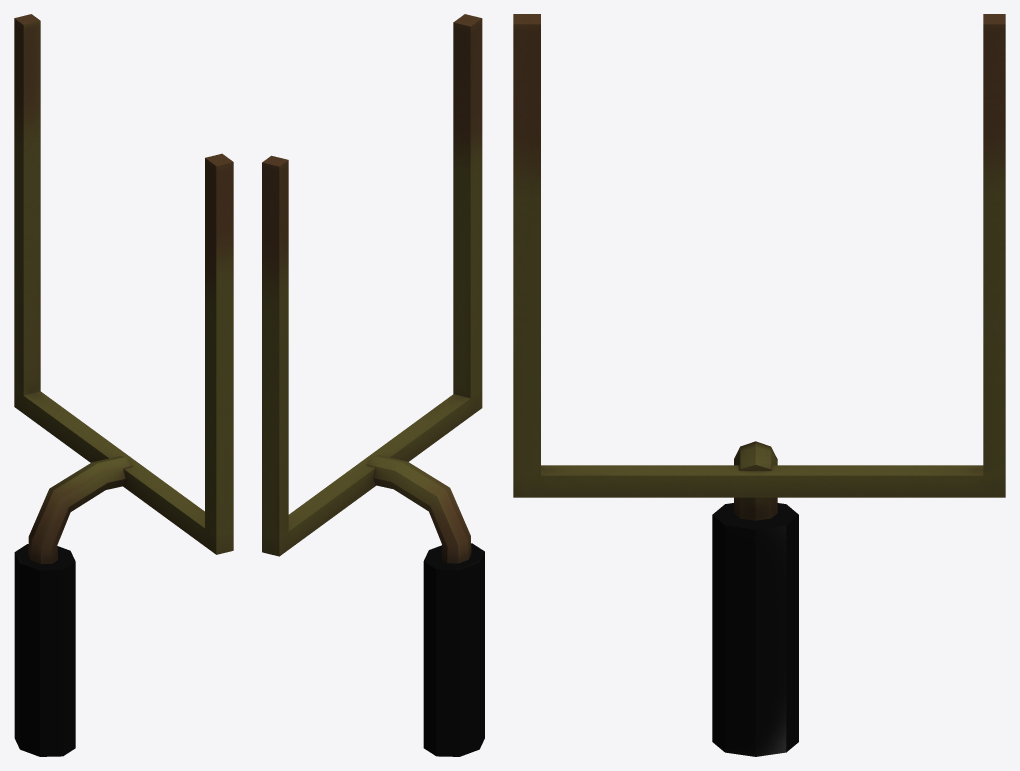
Rendered from goal.fbx.
The picture shows the model from 3 angles, left to right: view 1: azimuth 30°, elevation 25°; view 2: azimuth 150°, elevation 25°; view 3: azimuth 270°, elevation 25°; orthographic projection. The views are drawn at different scales.
Visible parts, largest first — view 1: polySurface49; view 2: polySurface49; view 3: polySurface49.
Part boxes in pixels (bbox=[...]): polySurface49: bbox=[14, 14, 233, 756]; polySurface49: bbox=[262, 14, 484, 756]; polySurface49: bbox=[513, 14, 1005, 756].
Size of the model in its own units: 3.67 by 19.44 by 11.26.
